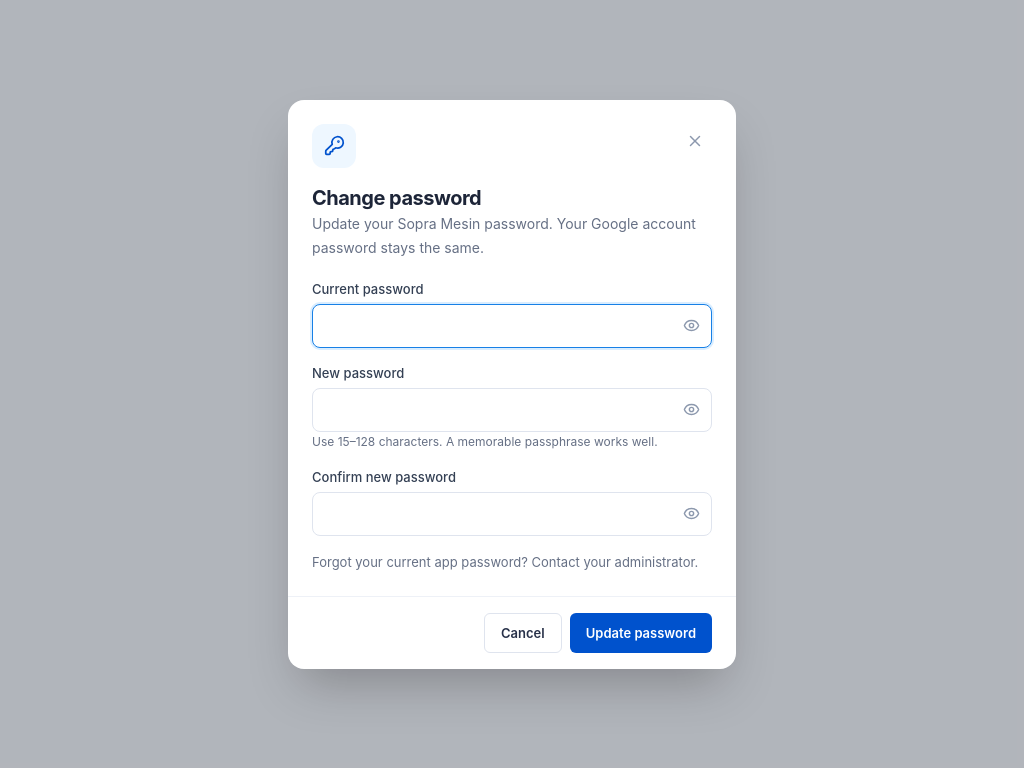
Mismatched confirmation is blocked before any request, and visibility toggle works
In the password field labelled "Current password": (512, 326) [312,304,712,348], type "old password"
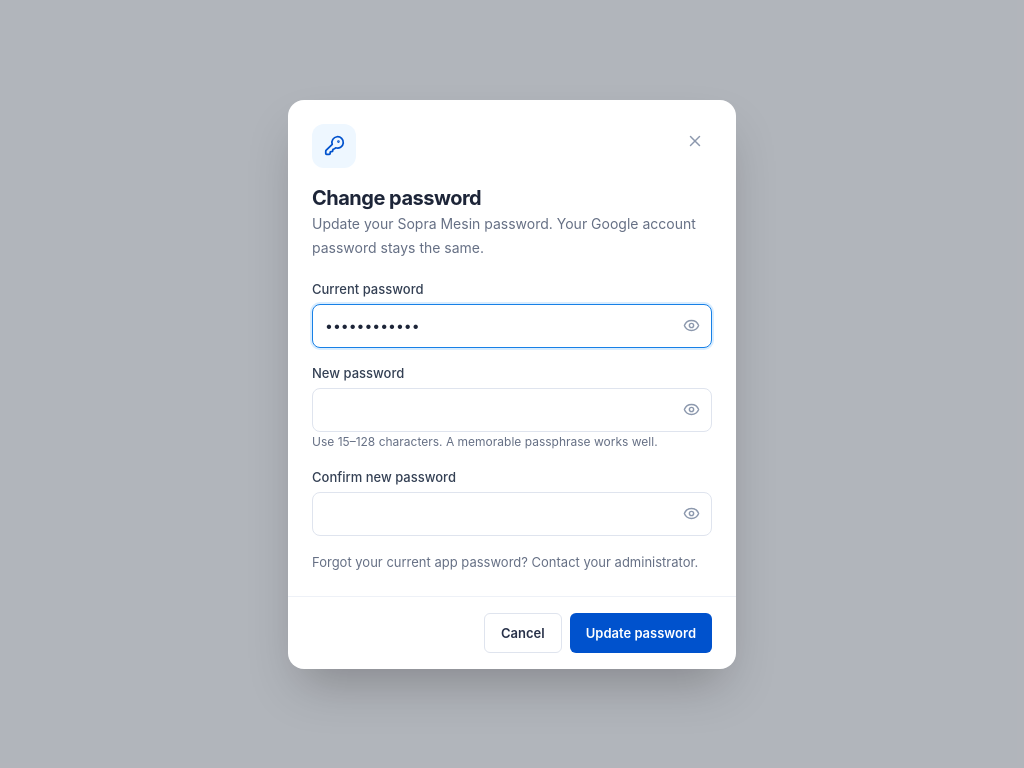
In the password field labelled "New password": (512, 410) [312,388,712,432], type "a new memorable passphrase"
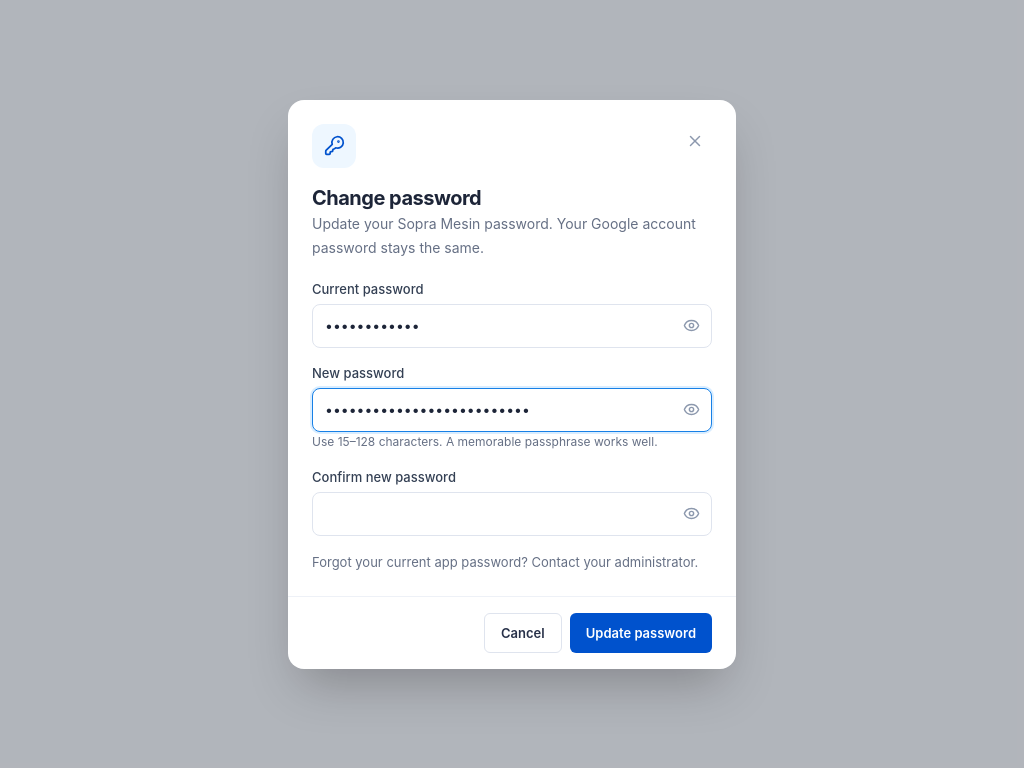
In the password field labelled "Confirm new password": (512, 514) [312,492,712,536], type "a new memorable passphrase"
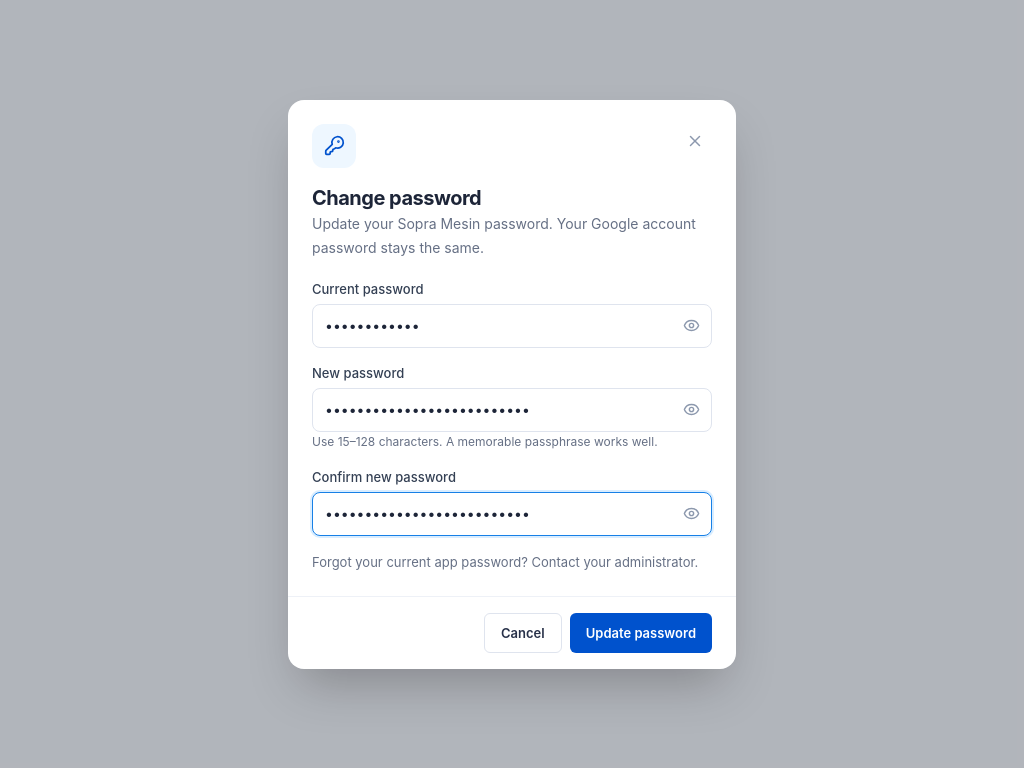
In the password field labelled "Confirm new password": (512, 514) [312,492,712,536], type "different"
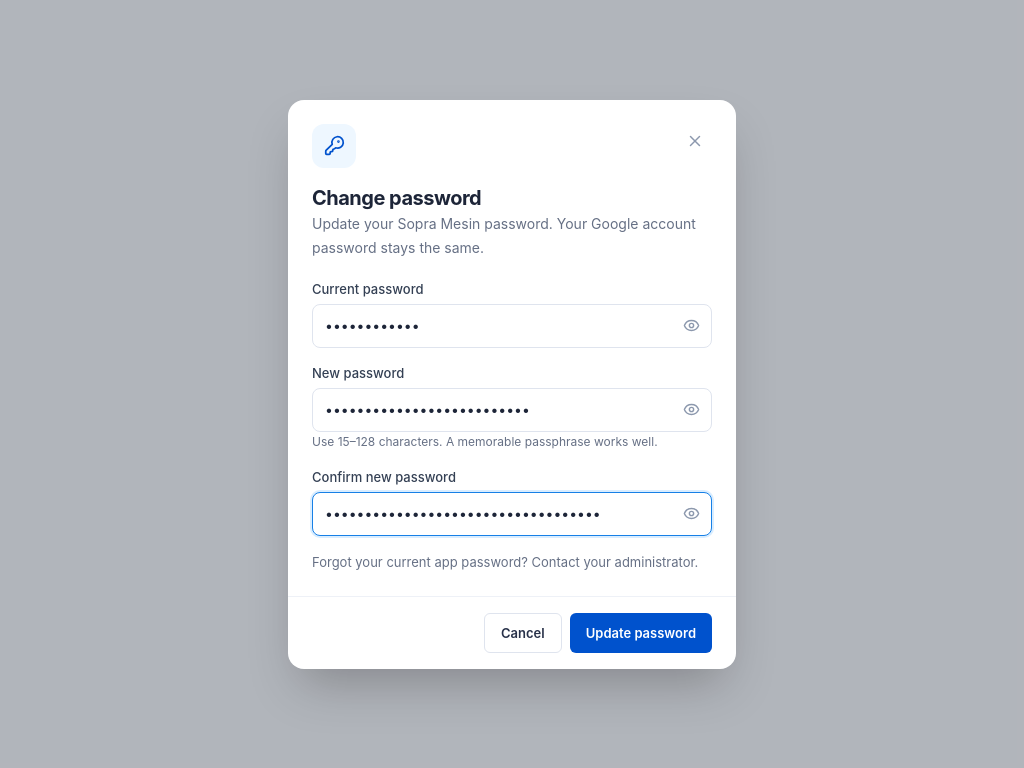
Click the button named "Show new password": (692, 410) [671,388,712,432]
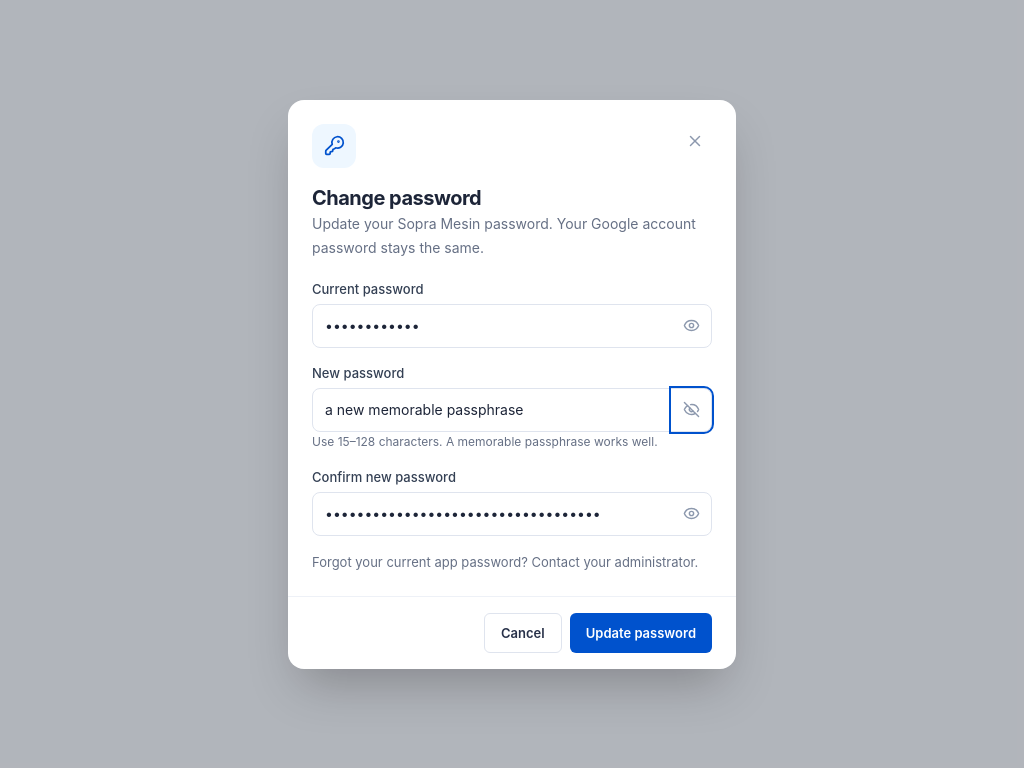
Click the button "Update password": (641, 632) [570,612,712,652]
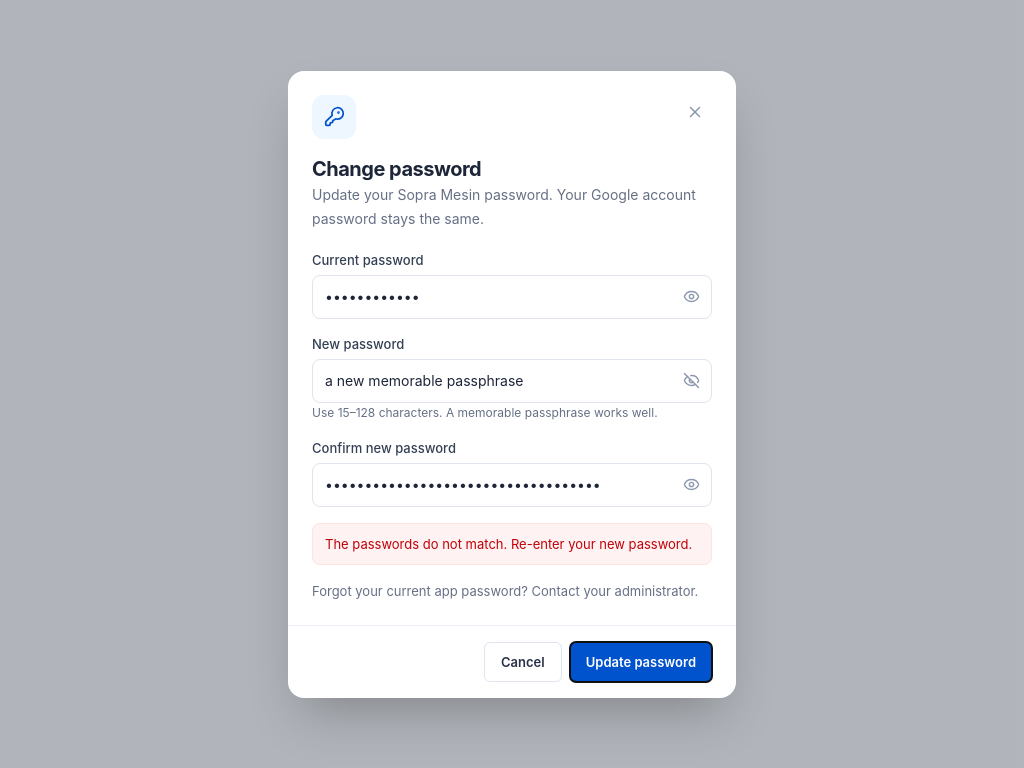
expect the message shows "do not match": met, box [325,536,692,552]
